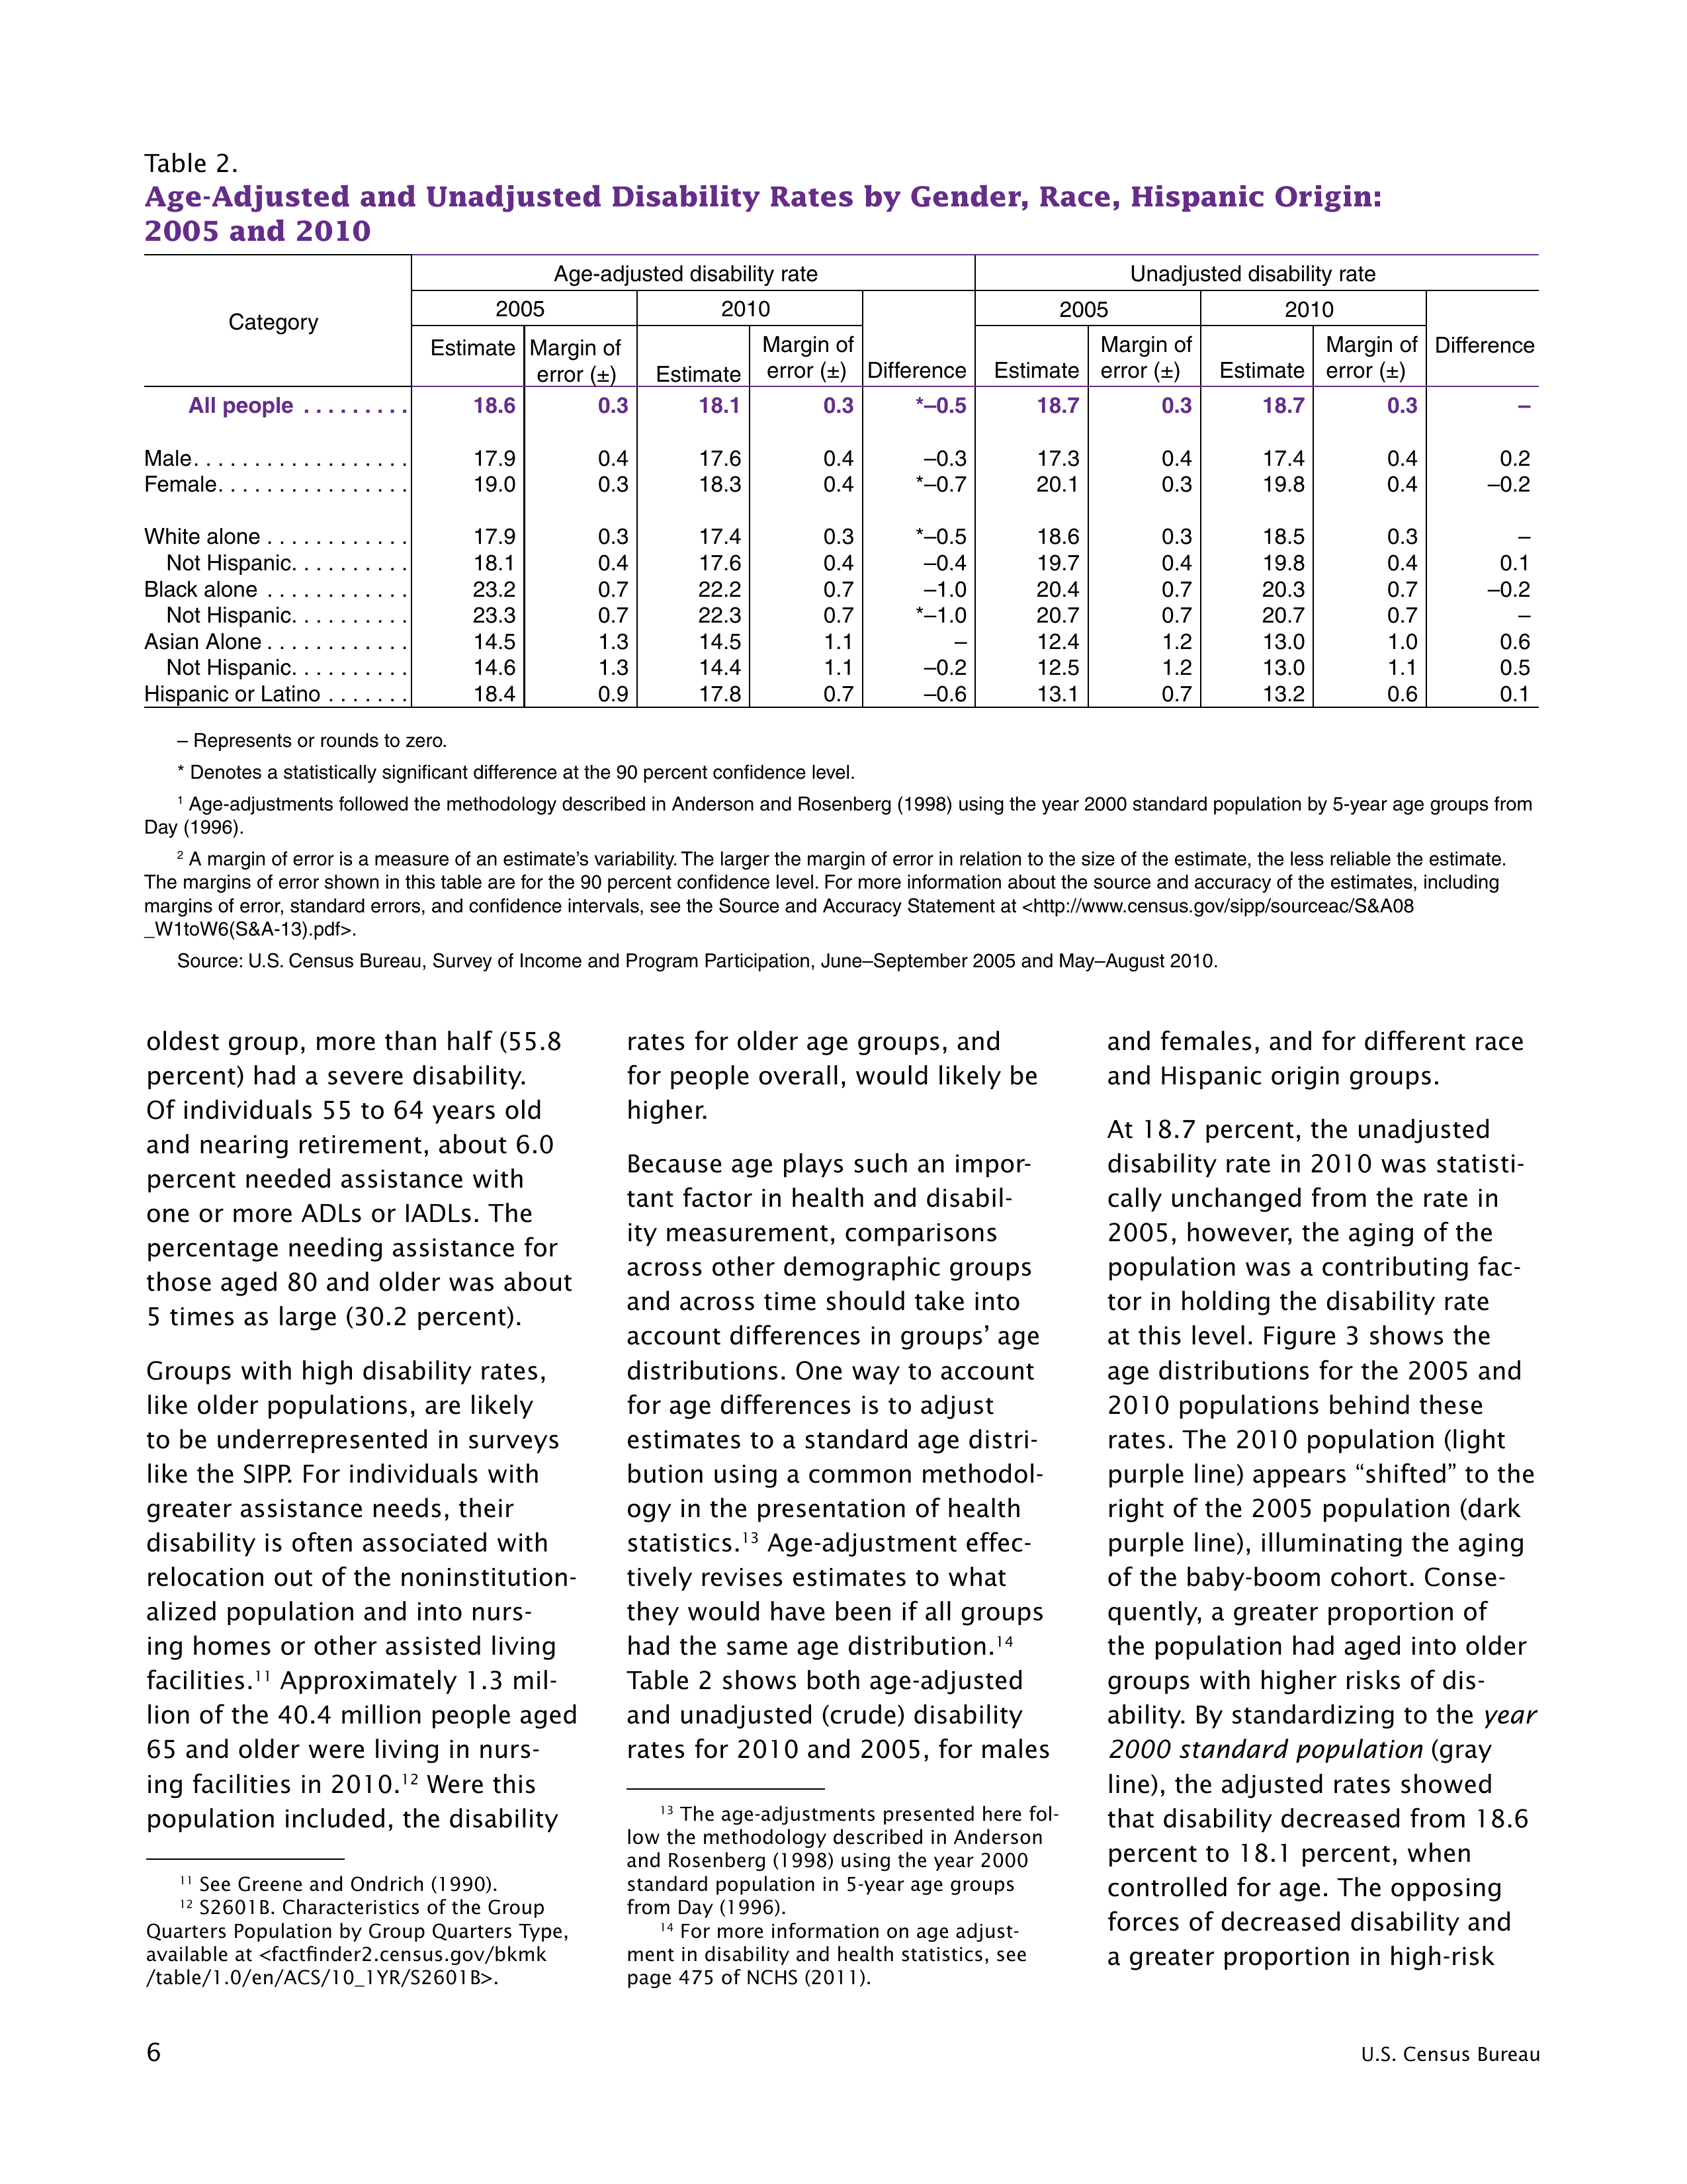table: (140, 252, 1538, 710)
